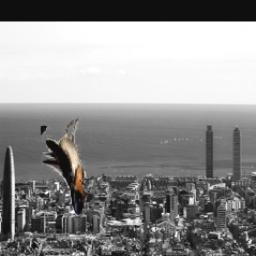Swallow: (41, 116, 88, 216)
